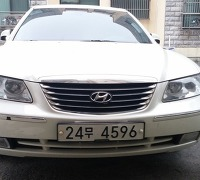plate: (59, 124, 143, 140)
